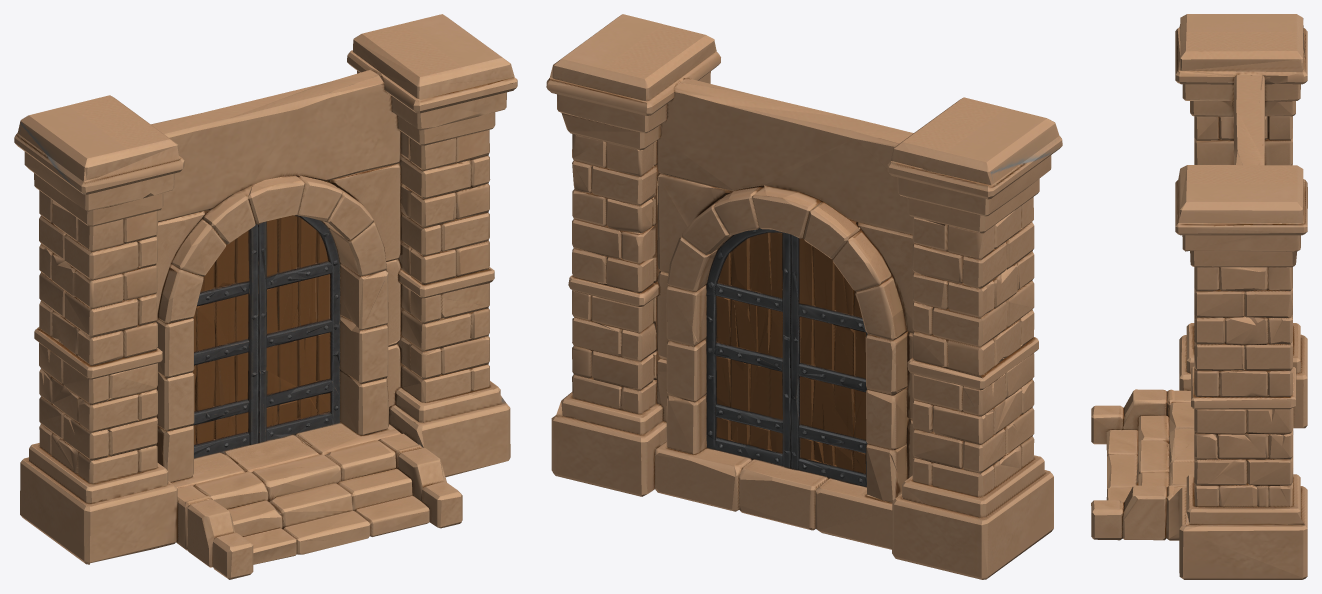
File: gate.glb
3 views of the same model, side by side, from view 1: azimuth 30°, elevation 25°; view 2: azimuth 150°, elevation 25°; view 3: azimuth 270°, elevation 25° (orthographic). The views are drawn at different scales.
Size of the model in its own units: 1.9 by 1.7 by 0.8796.
Materials: 1 (1 with a texture image).
